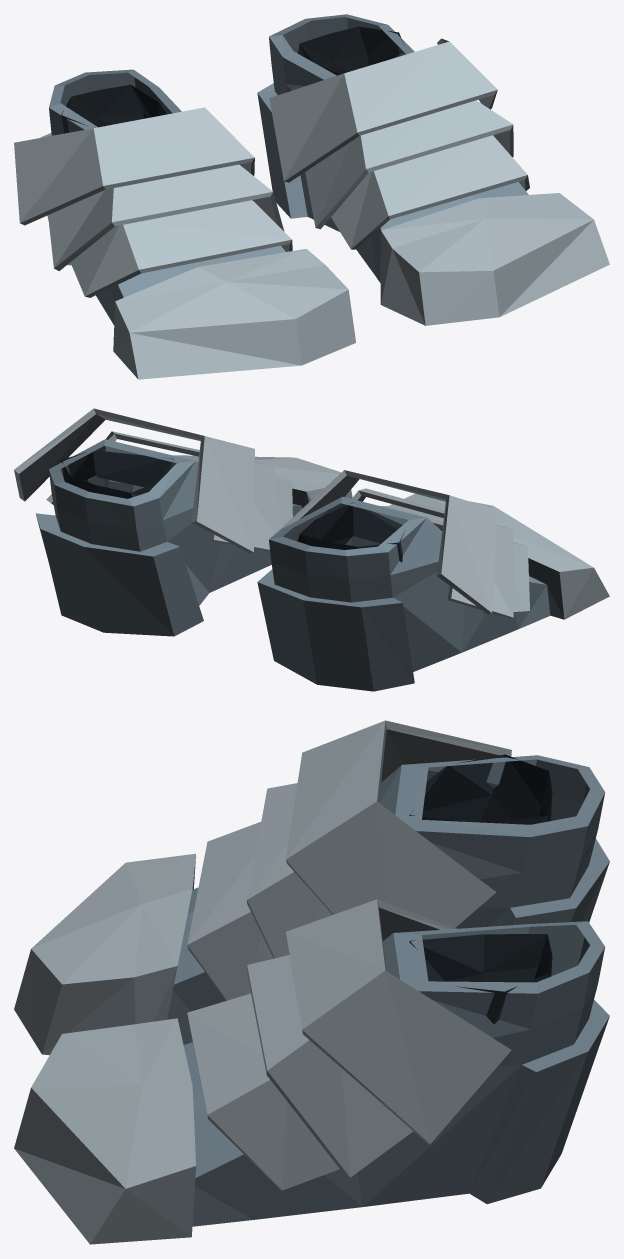
File: steel_feet.glb
The picture shows the model from 3 angles, top to bottom: view 1: azimuth 30°, elevation 25°; view 2: azimuth 150°, elevation 25°; view 3: azimuth 270°, elevation 25°; orthographic projection. The views are drawn at different scales.
Parts seen in each view (by area): view 1: steel_feet; view 2: steel_feet; view 3: steel_feet.
Boxes of the visible parts, <box> form: steel_feet: <box>14,14,609,379</box>; steel_feet: <box>14,408,609,691</box>; steel_feet: <box>14,720,609,1244</box>.
Bounding box in the file's own units: 1 × 0.3281 × 0.7591.
